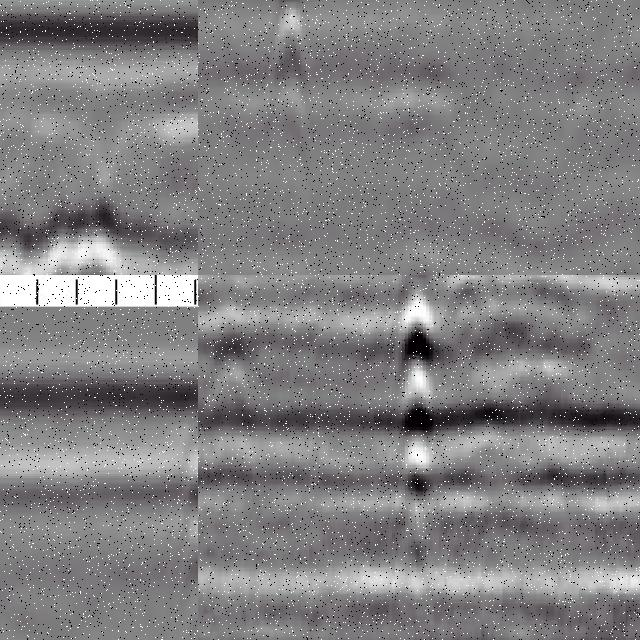crack: (262, 1, 314, 251), (393, 276, 437, 567), (179, 391, 199, 640)
loose: (1, 191, 133, 276)
